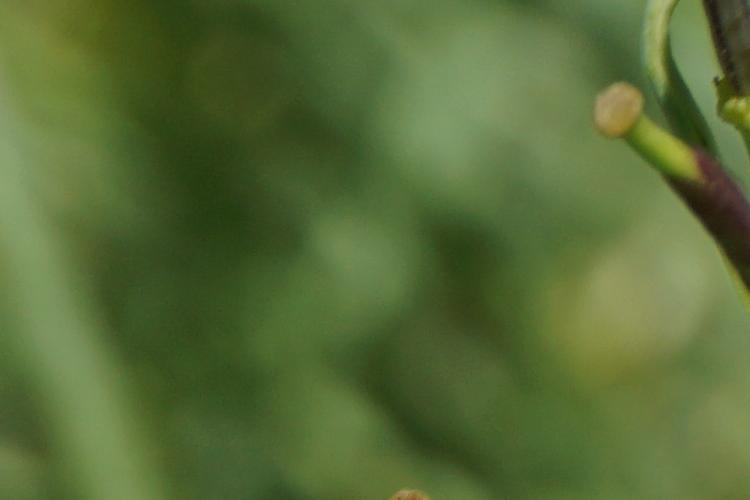pod: (604, 78, 743, 278)
